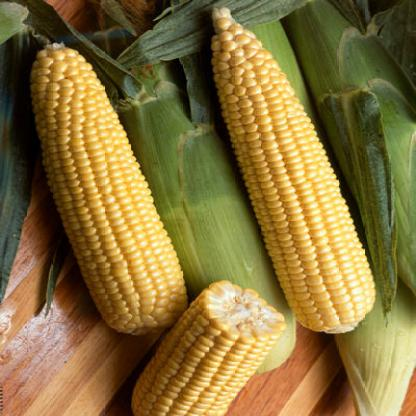---: (191, 7, 381, 343), (32, 41, 186, 327), (121, 275, 297, 416)
